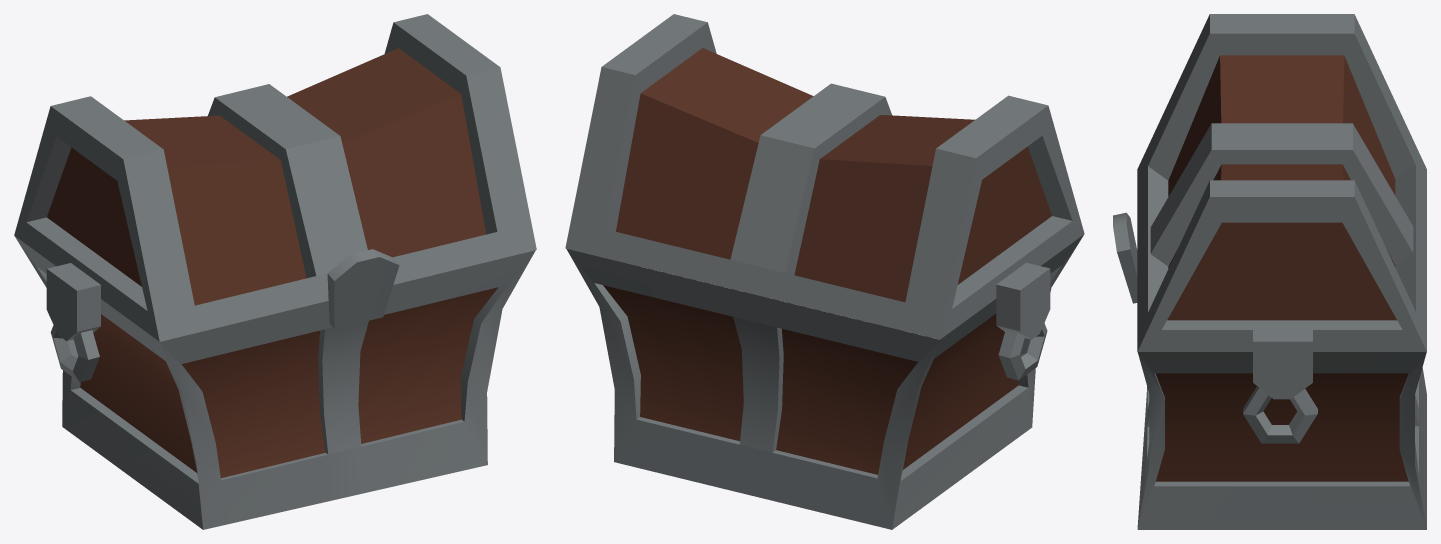
The model's file is metal_chest_closed.fbx.
The picture shows the model from 3 angles, left to right: view 1: azimuth 30°, elevation 25°; view 2: azimuth 150°, elevation 25°; view 3: azimuth 270°, elevation 25°; orthographic projection.
Visible parts, largest first — view 1: metal_chest_closed; view 2: metal_chest_closed; view 3: metal_chest_closed.
Part boxes in pixels (x1,y1,x2,y2): metal_chest_closed: [14, 14, 536, 529]; metal_chest_closed: [565, 14, 1084, 529]; metal_chest_closed: [1113, 14, 1426, 529].
Size of the model in its own units: 9.01 by 7.27 by 5.8.
